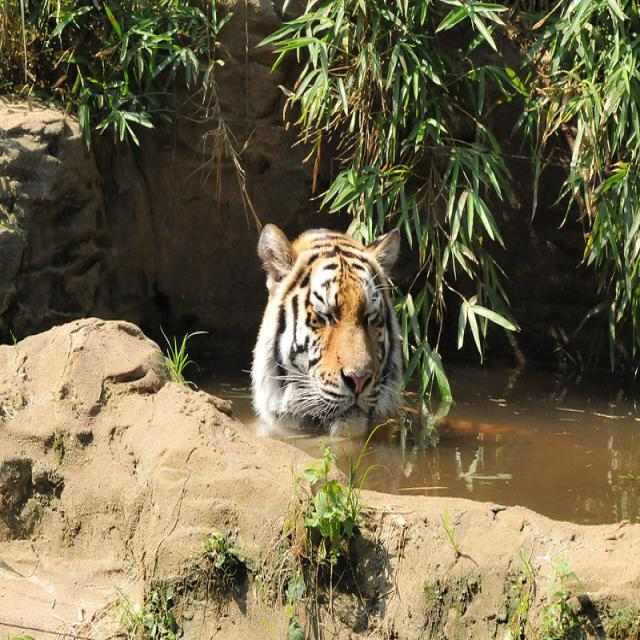Tiger: (245, 208, 404, 452)
